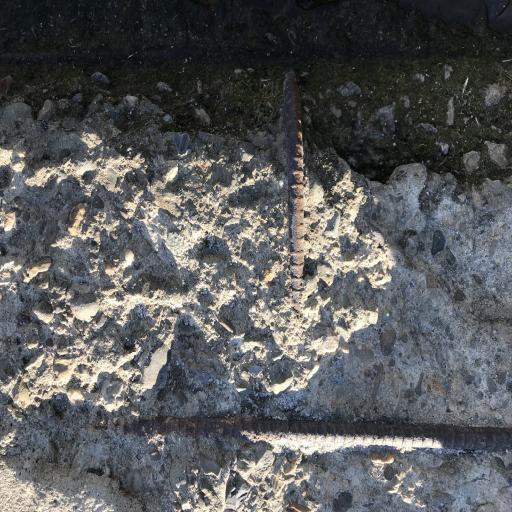exposed_rebar: (133, 416, 512, 450), (283, 71, 304, 315)
